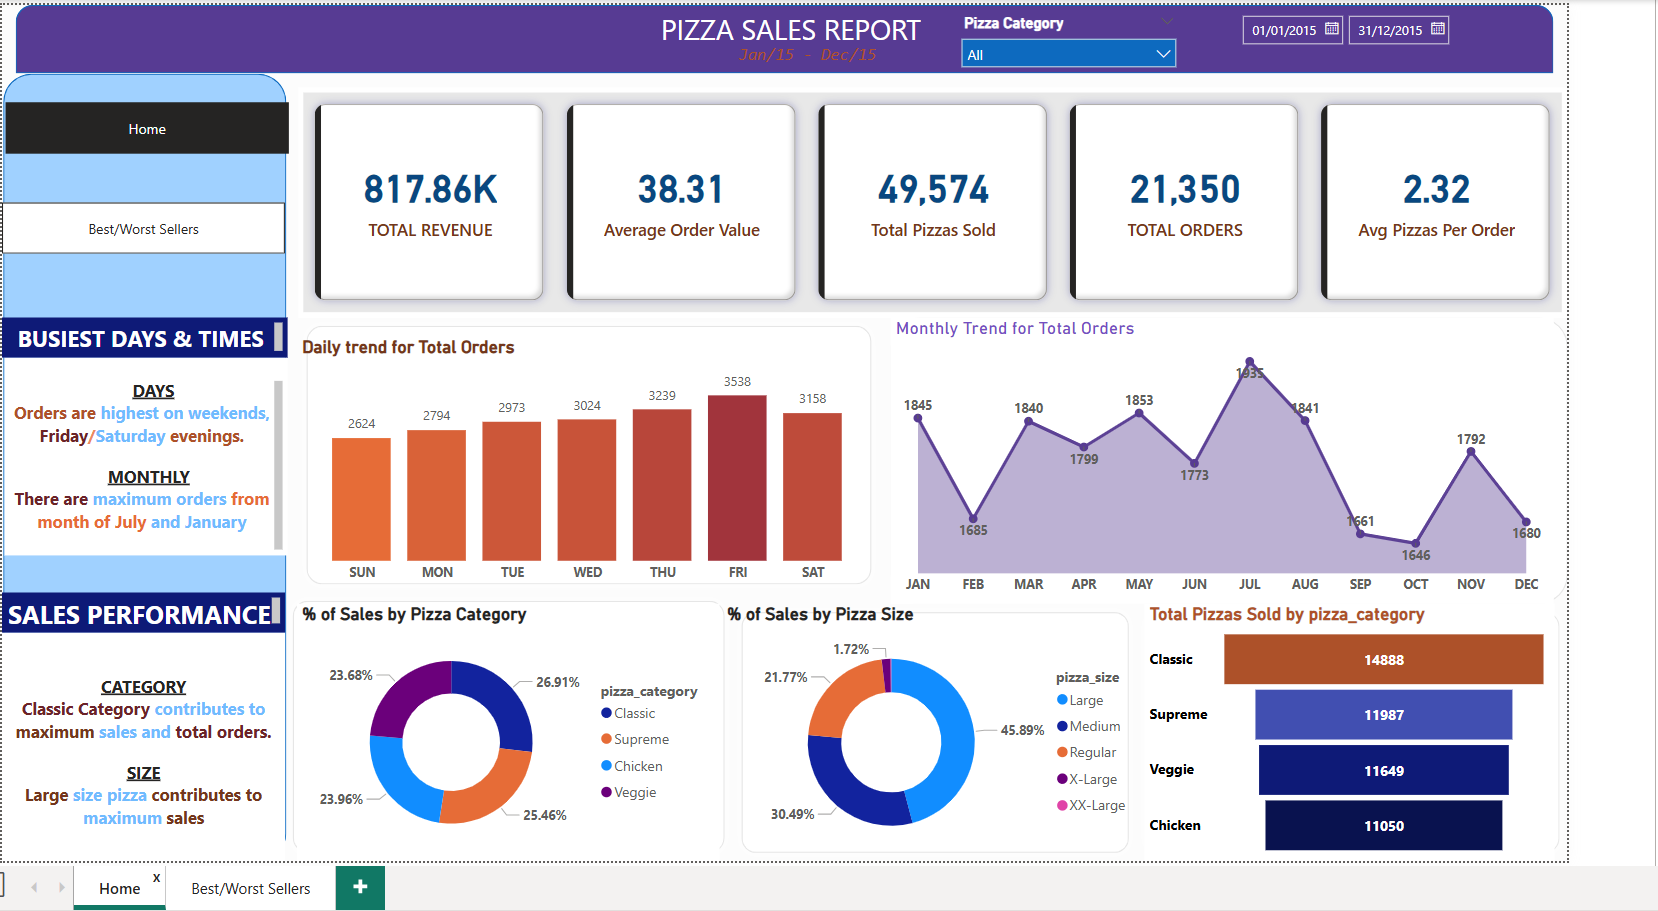

The page's visual inventory and layout, read from the dashboard file:
{"tool":"powerbi","page":{"name":"Home","canvas":[1500,820],"ordinal":0},"visuals":[{"type":"cardVisual","fields":{"Data":["pizza_sales.TOTAL REVENUE","pizza_sales.Average Order Value","pizza_sales.Total Pizzas Sold","pizza_sales.TOTAL ORDERS","pizza_sales.Avg Pizzas Per Order"]},"box":[283.4,79,1216.8,220.7],"z":0},{"type":"shape","box":[13.6,0,1473,65.4],"z":1000},{"type":"textbox","box":[700.4,34.1,151.3,31.3],"z":2000},{"type":"shape","box":[283.9,299.6,557,263.5],"z":3000},{"type":"columnChart","title":"Daily Trend For Total Orders","fields":{"Category":["pizza_sales.Order Day"],"Y":["pizza_sales.TOTAL ORDERS"]},"box":[282.1,317.5,557.3,245.3],"z":4000},{"type":"shape","box":[851.8,299.6,648.5,274.3],"z":5000},{"type":"areaChart","title":"Monthly Trend for Total Orders","fields":{"Category":["pizza_sales.Order Month"],"Y":["pizza_sales.TOTAL ORDERS"]},"box":[851.8,299.6,635.2,274.3],"z":6000},{"type":"shape","box":[270.7,563,429.5,257.5],"z":7000},{"type":"shape","box":[700.4,573.7,387,246.6],"z":8000},{"type":"shape","box":[1087.6,573.9,412.7,246.6],"z":9000},{"type":"donutChart","title":"% of Sales by Pizza Category","fields":{"Category":["pizza_sales.pizza_category"],"Y":["pizza_sales.TOTAL REVENUE"]},"box":[282.1,573.7,404.7,246.6],"z":10000},{"type":"donutChart","title":"% of Sales by Pizza Size","fields":{"Category":["pizza_sales.pizza_size"],"Y":["pizza_sales.TOTAL REVENUE"]},"box":[689.5,573.7,404.7,246.6],"z":11000},{"type":"funnel","fields":{"Y":["pizza_sales.Total Pizzas Sold"],"Category":["pizza_sales.pizza_category"]},"box":[1094.2,573.7,392.4,246.6],"z":12000},{"type":"textbox","box":[626.8,0,267.1,50.4],"z":13000},{"type":"shape","box":[1.4,65.4,271.2,754.9],"z":14000},{"type":"textbox","box":[2.7,337.9,271.2,189.4],"z":15000},{"type":"textbox","box":[0,299.8,273.9,38.2],"z":16000},{"type":"textbox","box":[0,600.9,271.2,219.4],"z":17000},{"type":"textbox","box":[0,562.8,271.2,38.2],"z":18000},{"type":"slicer","fields":{"Values":["pizza_sales.pizza_category"]},"box":[908.9,4.1,226.2,55.9],"z":19000},{"type":"slicer","fields":{"Values":["pizza_sales.order_date"]},"box":[1175.5,0,217.1,64.3],"z":20000},{"type":"pageNavigator","box":[3.2,93.3,271.8,49.9],"z":20001},{"type":"pageNavigator","box":[0,189.8,271.8,49.9],"z":20002}]}

Visuals, with their boxes on the page's 1500x820 design canvas (x1, y1, x2, y2). These are canvas units, not pixel positions in the 1658x911 screenshot, which may show the page scaled, cropped or inside an application window:
cardVisual - pizza_sales.TOTAL REVENUE x pizza_sales.Average Order Value: region(283, 79, 1500, 300)
shape: region(14, 0, 1487, 65)
textbox: region(700, 34, 852, 65)
shape: region(284, 300, 841, 563)
"Daily Trend For Total Orders" columnChart: region(282, 318, 839, 563)
shape: region(852, 300, 1500, 574)
"Monthly Trend for Total Orders" areaChart: region(852, 300, 1487, 574)
shape: region(271, 563, 700, 820)
shape: region(700, 574, 1087, 820)
shape: region(1088, 574, 1500, 820)
"% of Sales by Pizza Category" donutChart: region(282, 574, 687, 820)
"% of Sales by Pizza Size" donutChart: region(690, 574, 1094, 820)
funnel - pizza_sales.Total Pizzas Sold x pizza_sales.pizza_category: region(1094, 574, 1487, 820)
textbox: region(627, 0, 894, 50)
shape: region(1, 65, 273, 820)
textbox: region(3, 338, 274, 527)
textbox: region(0, 300, 274, 338)
textbox: region(0, 601, 271, 820)
textbox: region(0, 563, 271, 601)
slicer - pizza_sales.pizza_category: region(909, 4, 1135, 60)
slicer - pizza_sales.order_date: region(1176, 0, 1393, 64)
pageNavigator: region(3, 93, 275, 143)
pageNavigator: region(0, 190, 272, 240)
